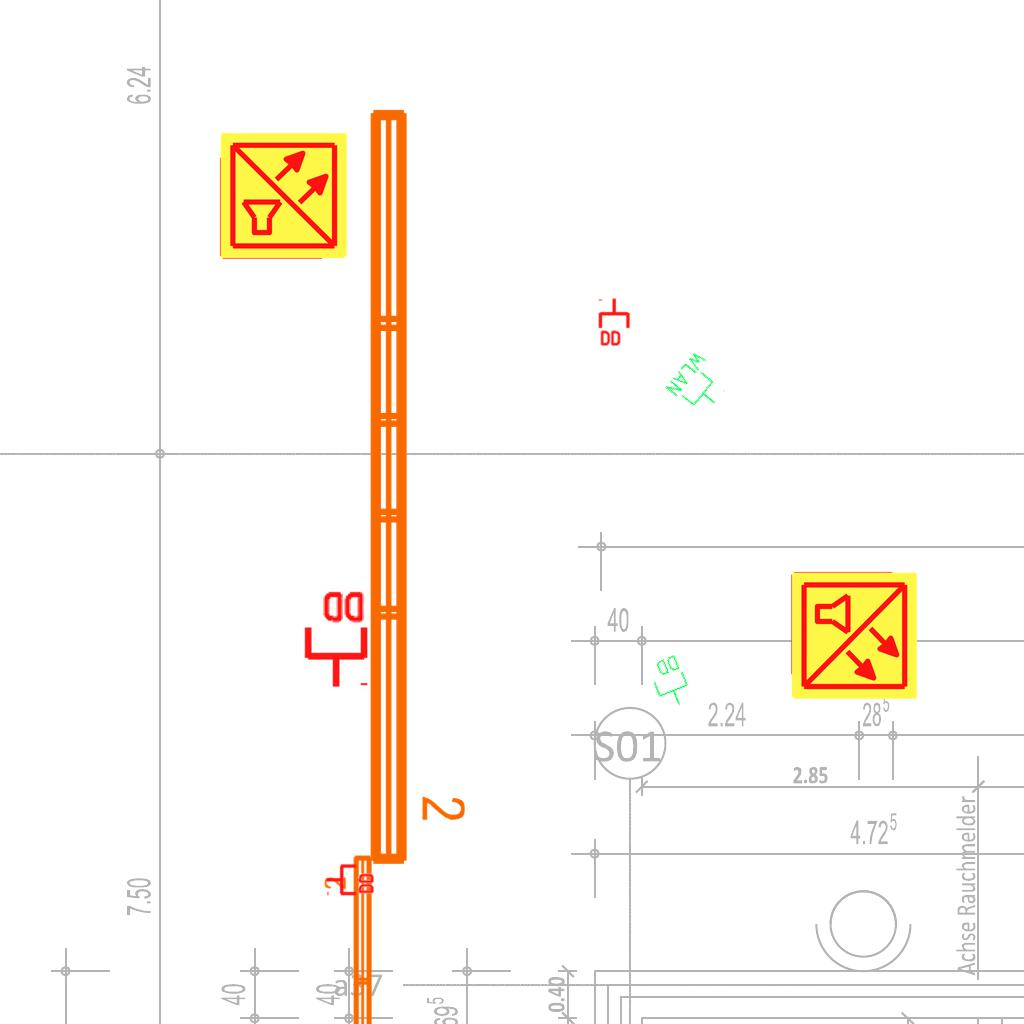Ambulanz_Pendelleuchte_LED: (358, 99, 470, 873), (322, 851, 378, 1024)
Datenanschluss_zweifach: (300, 587, 369, 690), (645, 651, 696, 713), (598, 297, 632, 348), (325, 862, 376, 896)
OKW_Multisensormelder_(Kombination_optischer_Rauch-Kahlenmonoxid_Waerme-Melder): (218, 130, 350, 262), (788, 570, 920, 702)
WLAN: (662, 347, 736, 421)
